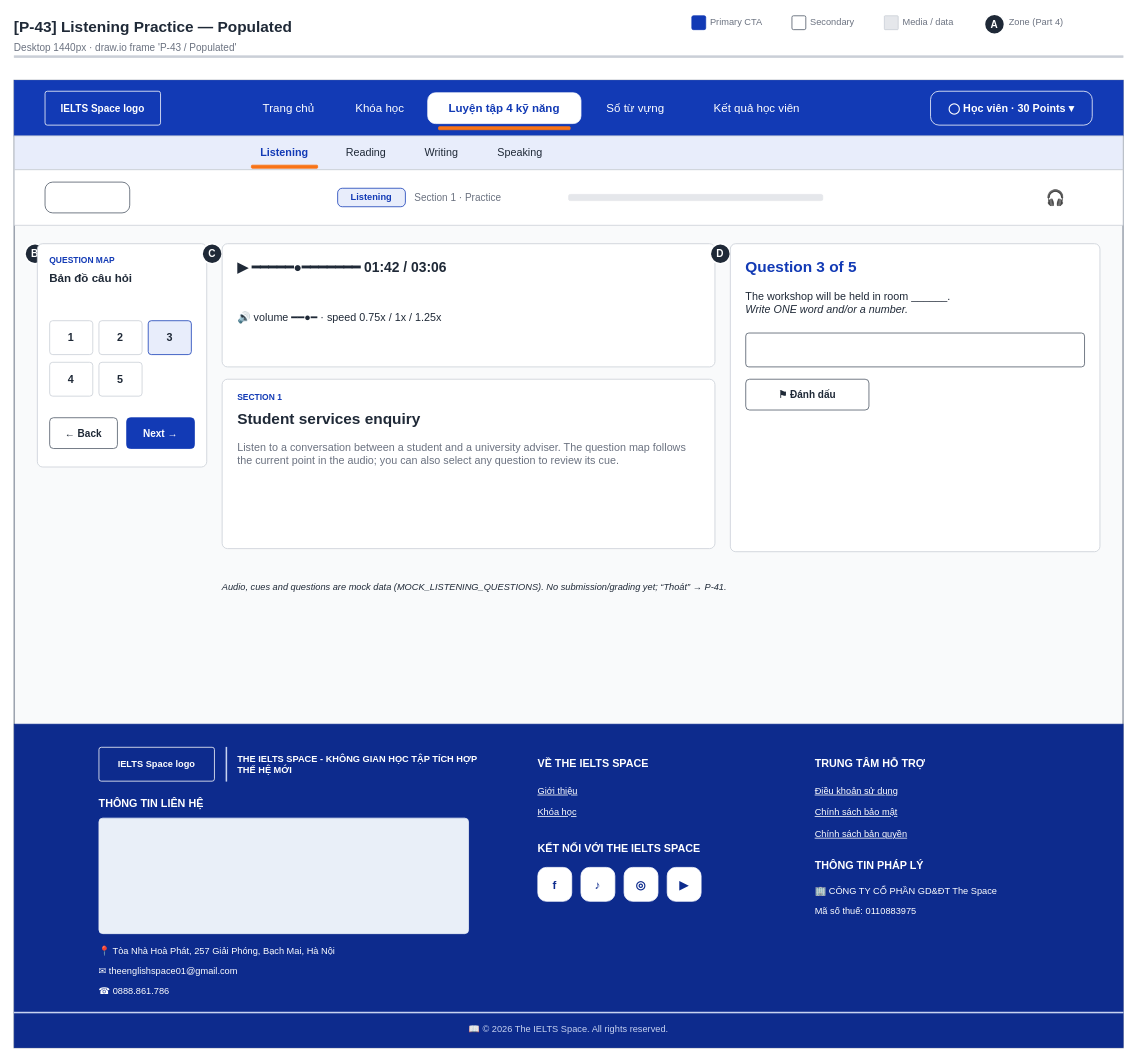
Image size: 1137x1061. Some labels were removed from this diagram. Here are the shapes that lost their labels. From the top down, the centre of each, then its label:
pixel 87 197: ← Thoát
pixel 915 349: Nhập đáp án cho câu 3
pixel 283 875: 📍 The IELTS Space Mở trong Maps ↗
